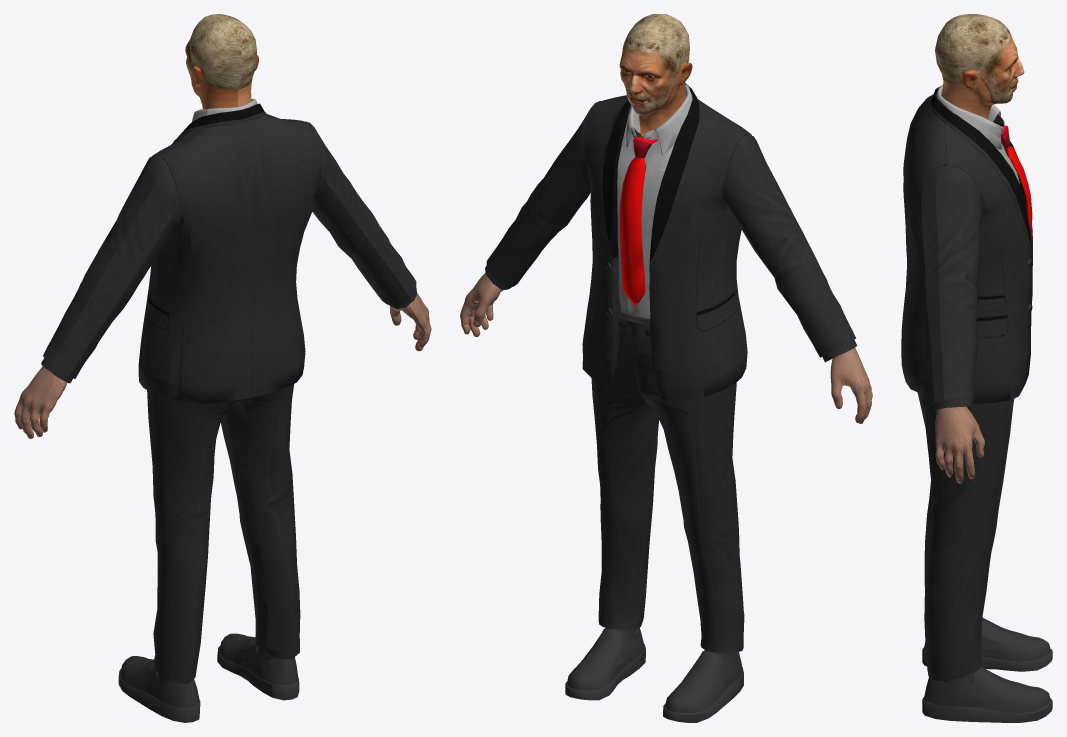
Rendered from modelo.fbx.
The picture shows the model from 3 angles, left to right: view 1: azimuth 30°, elevation 25°; view 2: azimuth 150°, elevation 25°; view 3: azimuth 270°, elevation 25°; orthographic projection.
Visible parts, largest first — view 1: lula; view 2: lula; view 3: lula.
Part boxes in pixels (x1,y1,x2,y2): lula: [14, 14, 431, 722]; lula: [460, 14, 872, 722]; lula: [901, 14, 1052, 722].
Size of the model in its own units: 45.69 by 71.73 by 14.59.
